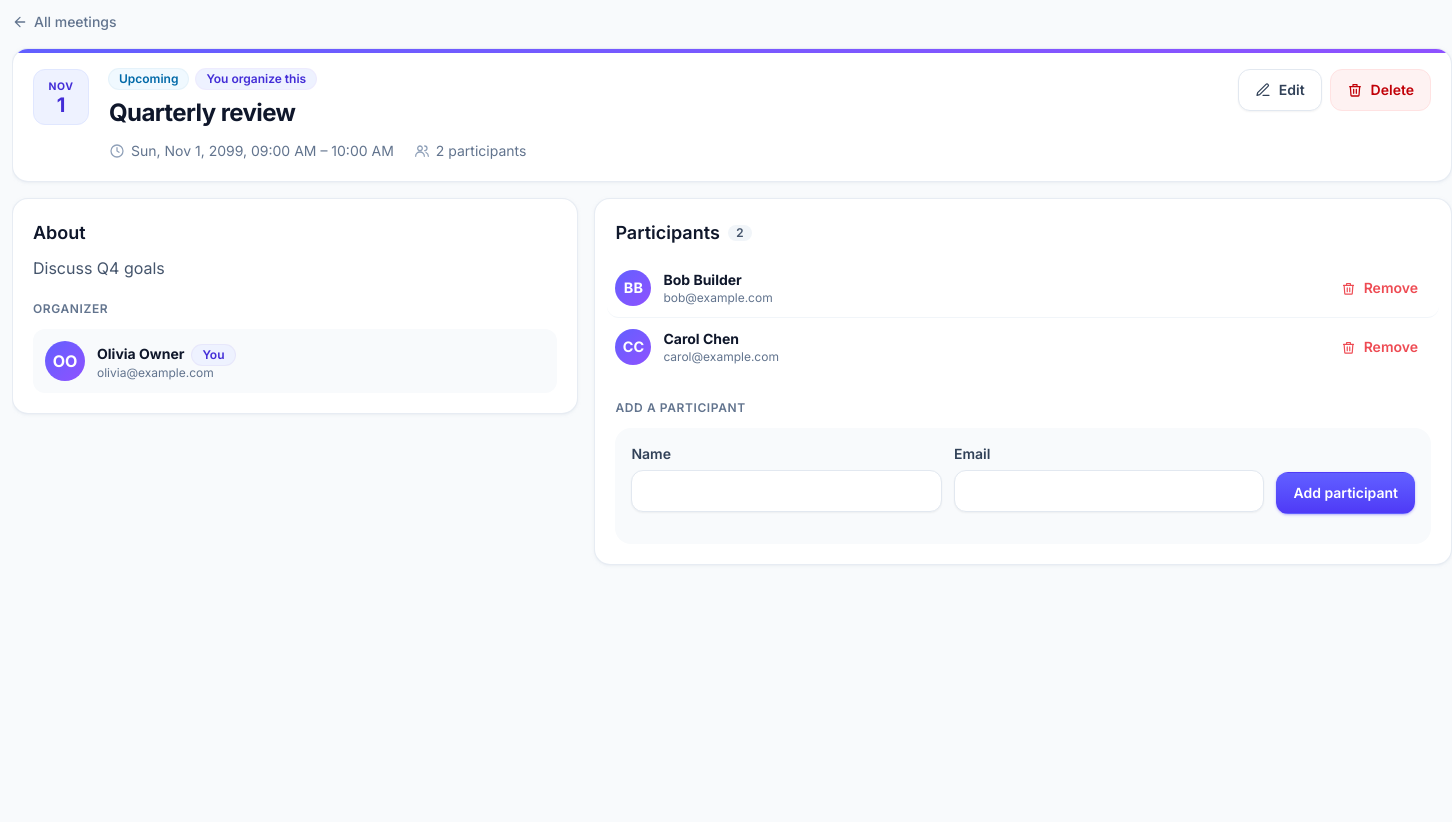
Test: MeetingDetailPage › shows the server message when adding a duplicate participant
Expected: the heading "Quarterly review" is shown, 109,98 -> 295,127
In the field labelled "Name": (787, 491) 631,470 -> 942,512, type "Bob"
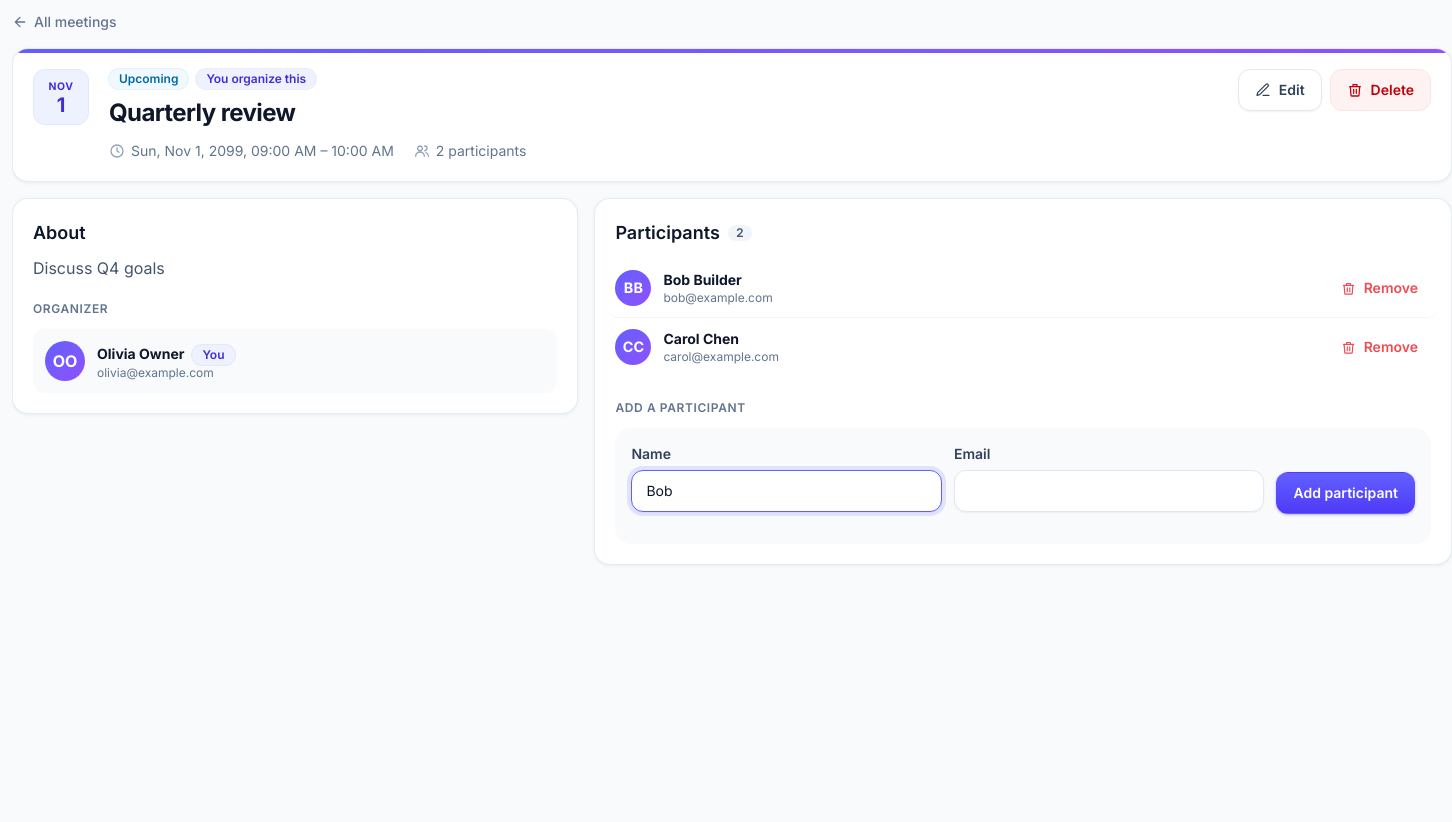
In the field labelled "Email": (1109, 491) 954,470 -> 1264,512, type "bob@example.com"
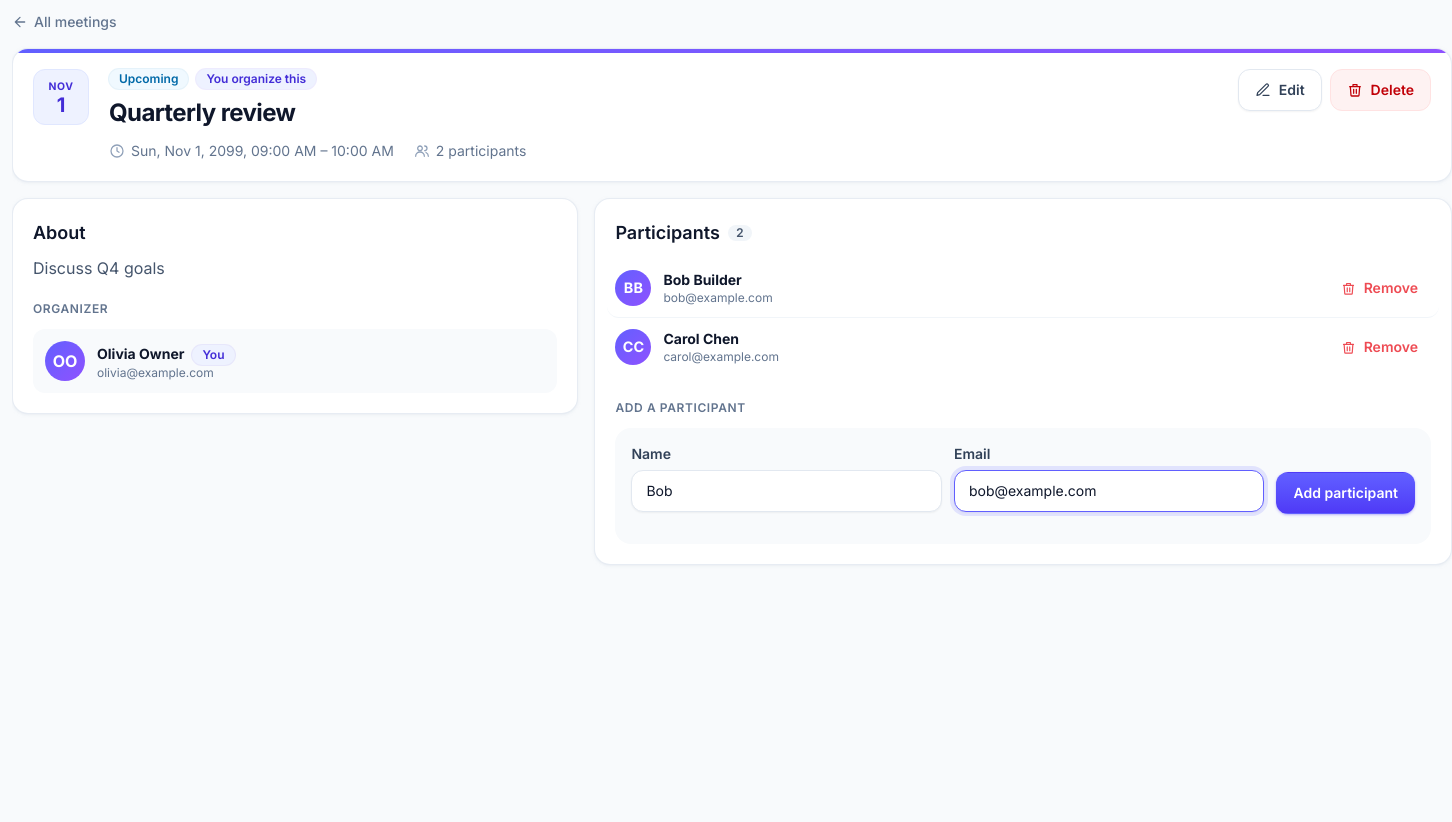
Click the button "Add participant": (1346, 493) 1276,472 -> 1415,514
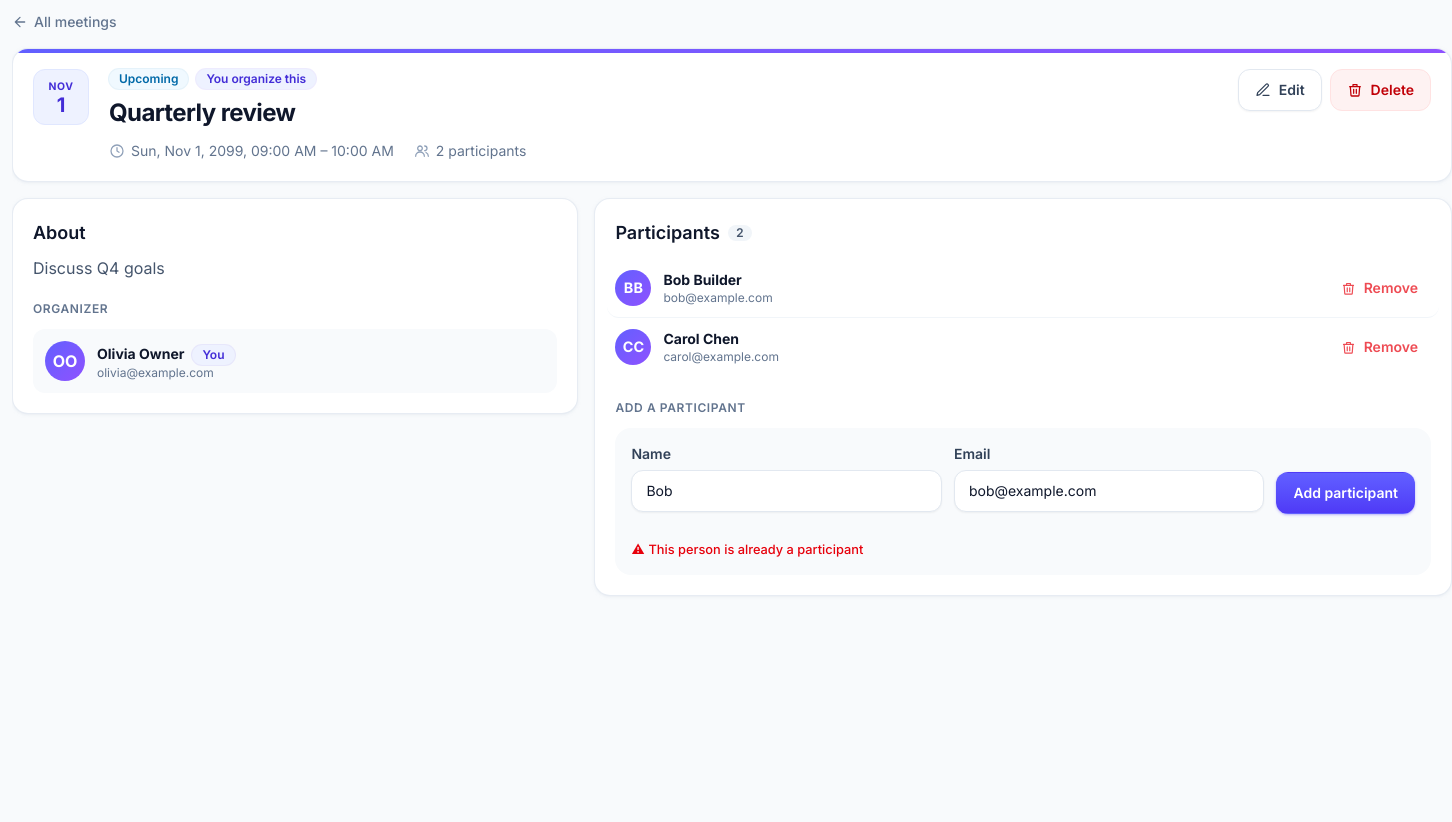
Expected: the text "This person is already a participant" is shown, 648,542 -> 863,557
In the field labelled "Email": (1109, 491) 954,470 -> 1264,512, type "x"
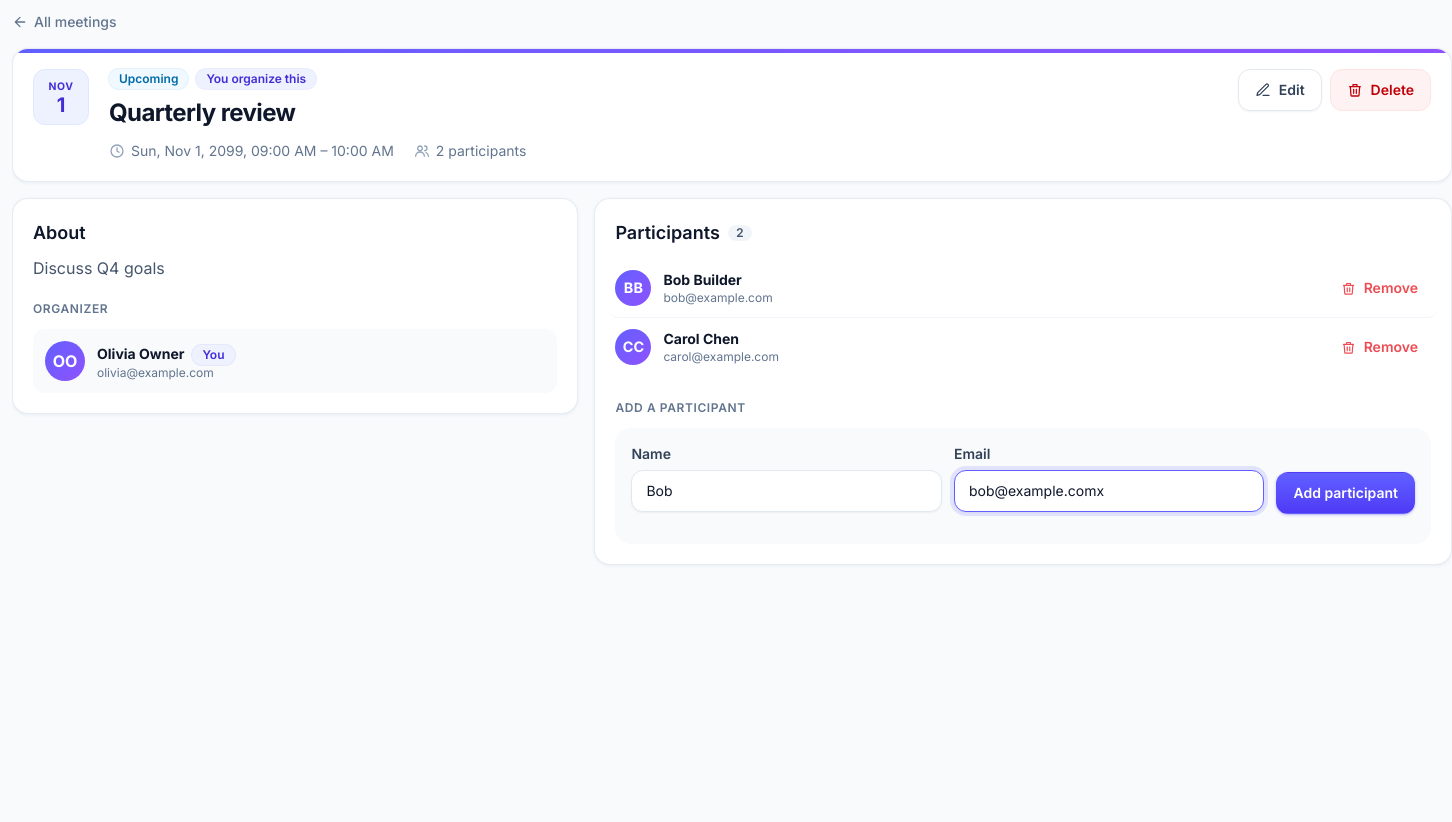
Expected: the text "This person is already a participant" is gone
